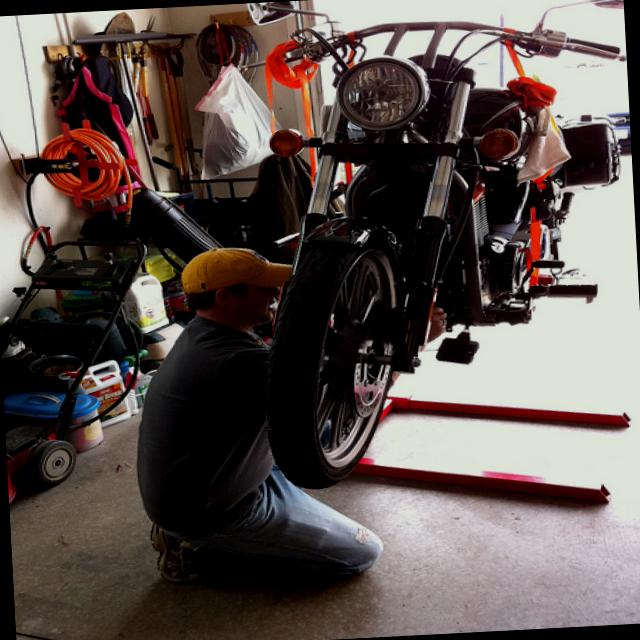Vehicle: (228, 0, 640, 487), (608, 112, 632, 150)
